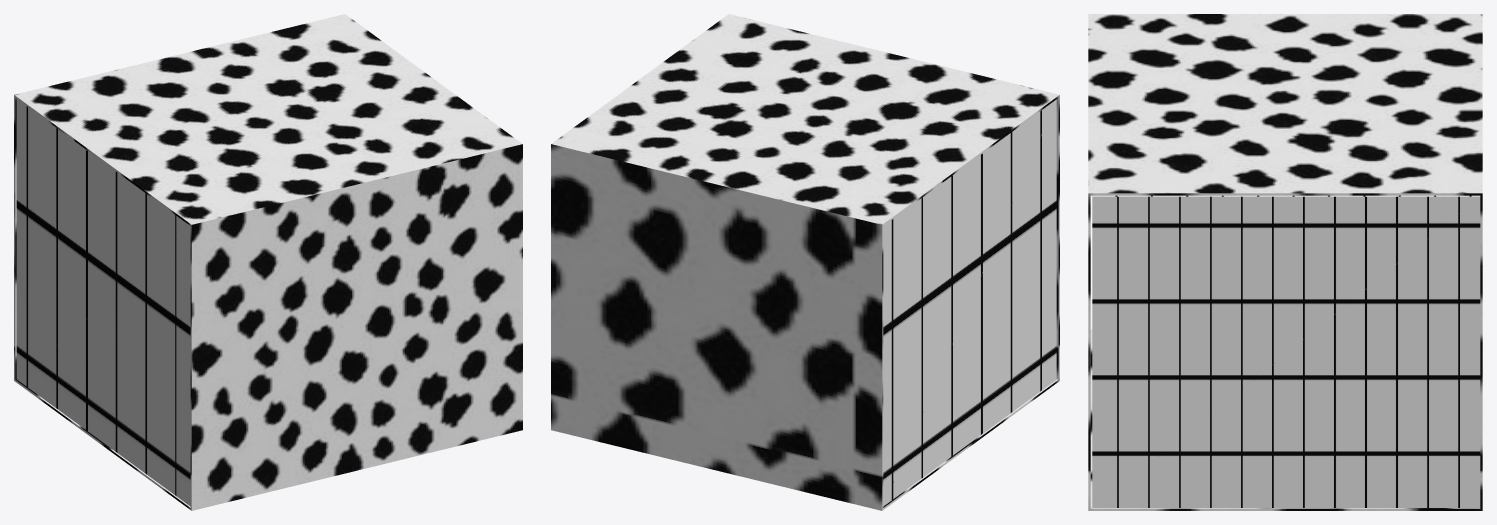
3 renders of one model, left to right at view 1: azimuth 30°, elevation 25°; view 2: azimuth 150°, elevation 25°; view 3: azimuth 270°, elevation 25°, orthographic. The views are drawn at different scales.
Visible parts, largest first — view 1: MIN#5.001_Mesh_16.001, MIN#5.001_Mesh_16.002; view 2: MIN#5.001_Mesh_16.001, MIN#5.001_Mesh_16.002; view 3: MIN#5.001_Mesh_16.002, MIN#5.001_Mesh_16.001.
Boxes of the visible parts, x1,y1,x2,y2 form: MIN#5.001_Mesh_16.001: (14,14,522,510); MIN#5.001_Mesh_16.002: (16,99,190,506); MIN#5.001_Mesh_16.001: (551,14,1059,510); MIN#5.001_Mesh_16.002: (883,99,1056,506); MIN#5.001_Mesh_16.002: (1092,195,1480,507); MIN#5.001_Mesh_16.001: (1088,14,1482,510).
Size of the model in its own units: 0.327 by 0.27 by 0.304.
2 materials, 2 textured.
